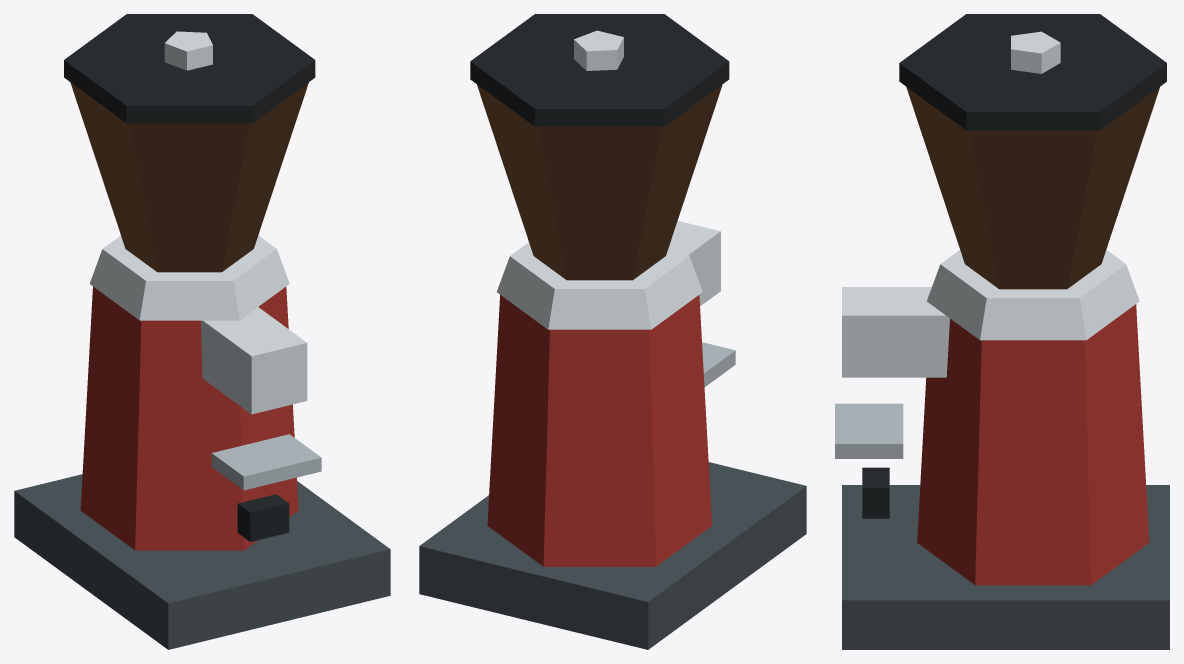
File: coffee_grinder.glb
The picture shows the model from 3 angles, left to right: view 1: azimuth 30°, elevation 25°; view 2: azimuth 150°, elevation 25°; view 3: azimuth 270°, elevation 25°; orthographic projection. The views are drawn at different scales.
Parts seen in each view (by area): view 1: Grinder_Body; view 2: Grinder_Body; view 3: Grinder_Body.
Part boxes in pixels (box(x1,y1,x2,y2)): Grinder_Body: box(14, 14, 390, 649); Grinder_Body: box(419, 14, 806, 649); Grinder_Body: box(835, 14, 1169, 649).
Bounding box in the file's own units: 0.2 × 0.444 × 0.245.
1 material, 1 textured.
